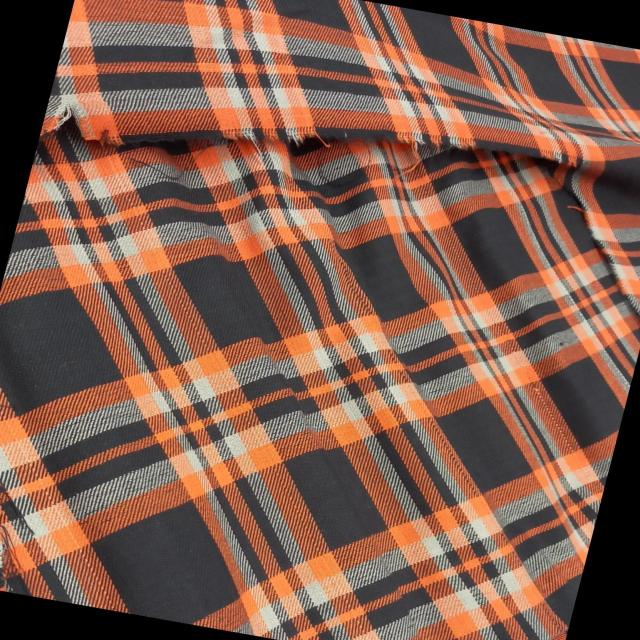cut: (74, 64, 595, 210), (0, 399, 59, 593), (568, 218, 640, 306)
